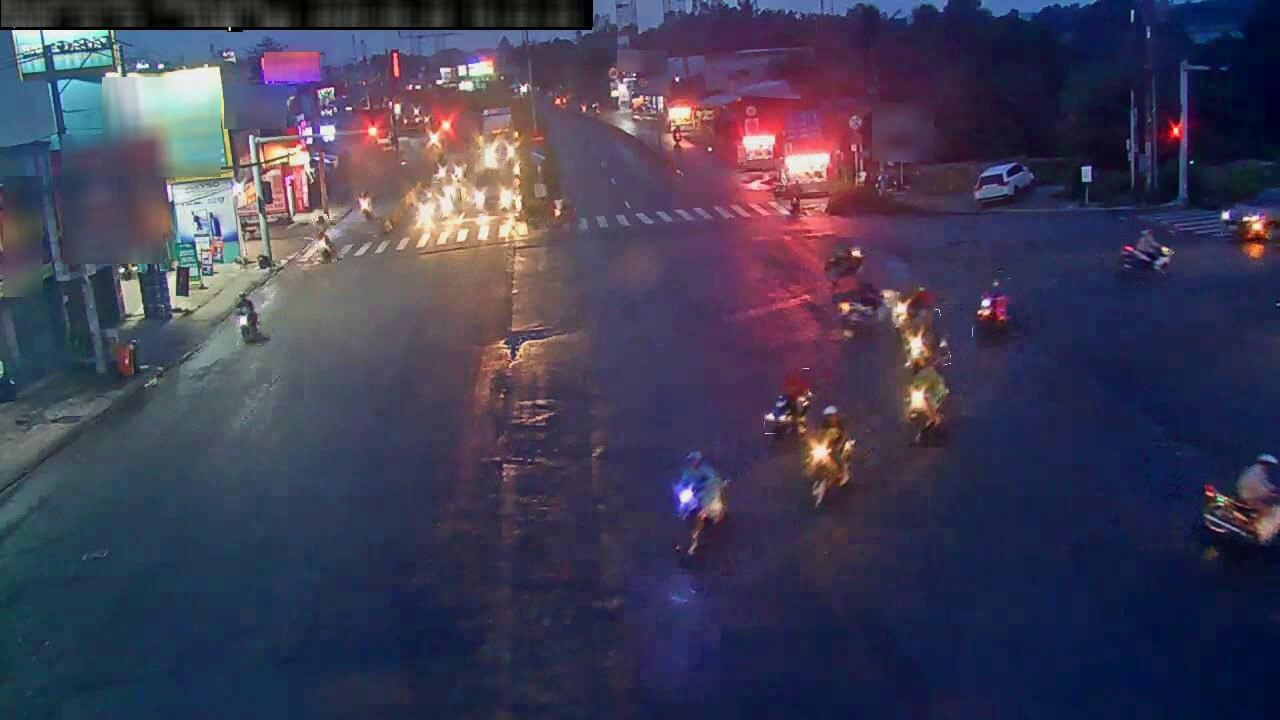Bus: (472, 166, 514, 214)
Car: (1221, 187, 1279, 240), (973, 161, 1034, 206), (418, 185, 454, 218), (432, 154, 466, 181)
Motorcycle: (1202, 453, 1279, 547), (673, 451, 728, 558), (905, 367, 949, 443), (805, 439, 854, 507), (975, 278, 1014, 336), (762, 392, 810, 437)
Motorcyclist: (902, 312, 949, 371), (836, 285, 896, 331), (1117, 228, 1174, 276), (824, 247, 864, 291), (894, 285, 934, 326), (236, 294, 263, 343), (549, 192, 572, 229), (317, 215, 335, 262), (358, 189, 372, 222)
Truck: (481, 119, 516, 176)
